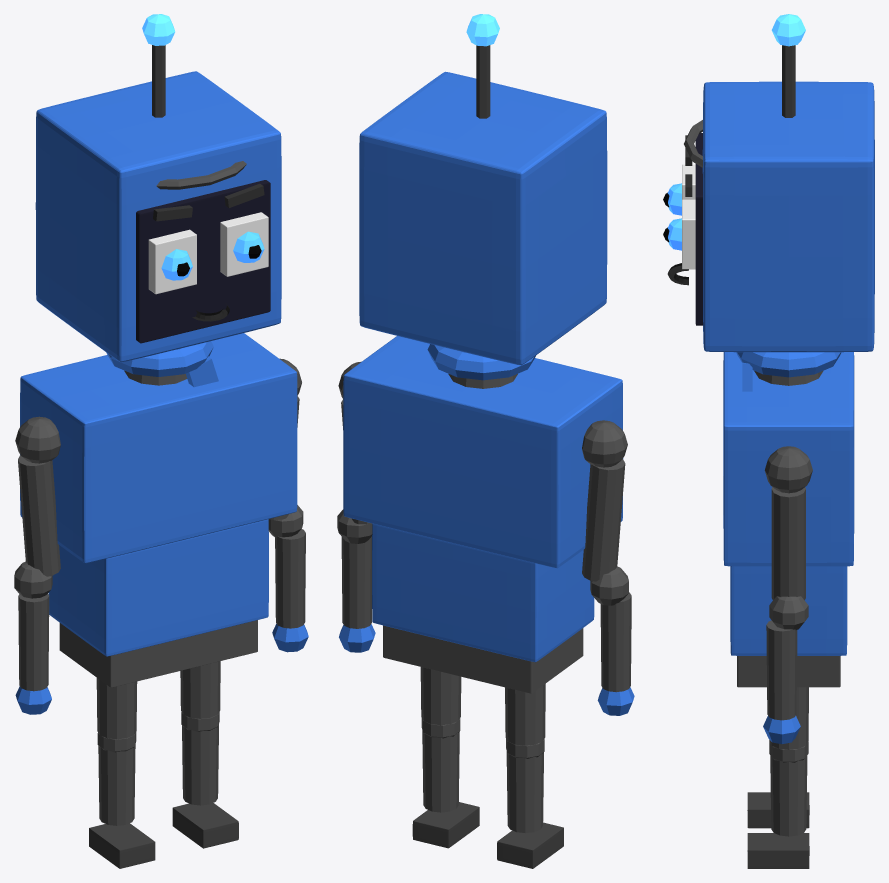
Rendered from percy.glb.
3 views of the same model, side by side, from view 1: azimuth 30°, elevation 25°; view 2: azimuth 150°, elevation 25°; view 3: azimuth 270°, elevation 25° (orthographic).
Parts seen in each view (by area): view 1: percy_chest, percy_head, percy_waist, percy_face_plate, percy_hips, percy_l_upper_arm, percy_l_forearm, percy_r_forearm, percy_l_calf, percy_r_calf, percy_l_foot, percy_r_foot (+16 smaller); view 2: percy_head, percy_chest, percy_waist, percy_hips, percy_l_upper_arm, percy_r_calf, percy_l_calf, percy_l_forearm, percy_r_forearm, percy_l_thigh, percy_r_foot, percy_r_thigh (+9 smaller); view 3: percy_head, percy_chest, percy_waist, percy_r_upper_arm, percy_r_forearm, percy_r_calf, percy_hips, percy_r_foot, percy_scarf_ring, percy_r_shoulder, percy_face_plate, percy_r_elbow (+9 smaller).
Part boxes in pixels (x1=…): percy_chest: x1=20, y1=333, x2=297, y2=563; percy_head: x1=35, y1=71, x2=281, y2=362; percy_waist: x1=48, y1=519, x2=268, y2=656; percy_face_plate: x1=136, y1=180, x2=270, y2=343; percy_hips: x1=59, y1=620, x2=257, y2=687; percy_l_upper_arm: x1=18, y1=455, x2=60, y2=576; percy_l_forearm: x1=18, y1=594, x2=49, y2=691; percy_r_forearm: x1=275, y1=529, x2=305, y2=628; percy_l_calf: x1=98, y1=744, x2=135, y2=825; percy_r_calf: x1=182, y1=725, x2=218, y2=805; percy_l_foot: x1=89, y1=823, x2=155, y2=868; percy_r_foot: x1=172, y1=803, x2=238, y2=848; percy_head: x1=359, y1=71, x2=607, y2=365; percy_chest: x1=343, y1=336, x2=623, y2=568; percy_waist: x1=372, y1=523, x2=594, y2=662; percy_hips: x1=383, y1=625, x2=583, y2=693; percy_l_upper_arm: x1=582, y1=459, x2=625, y2=581; percy_r_calf: x1=422, y1=731, x2=459, y2=812; percy_l_calf: x1=506, y1=751, x2=543, y2=833; percy_l_forearm: x1=600, y1=592, x2=631, y2=692; percy_r_forearm: x1=341, y1=536, x2=371, y2=628; percy_l_thigh: x1=505, y1=683, x2=545, y2=745; percy_r_foot: x1=412, y1=802, x2=479, y2=848; percy_r_thigh: x1=420, y1=667, x2=461, y2=725; percy_head: x1=702, y1=81, x2=874, y2=352; percy_chest: x1=723, y1=352, x2=854, y2=566; percy_waist: x1=730, y1=566, x2=847, y2=655; percy_r_upper_arm: x1=771, y1=487, x2=805, y2=600; percy_r_forearm: x1=766, y1=620, x2=797, y2=720; percy_r_calf: x1=770, y1=755, x2=807, y2=836; percy_hips: x1=737, y1=656, x2=840, y2=687; percy_r_foot: x1=747, y1=833, x2=809, y2=868; percy_scarf_ring: x1=736, y1=352, x2=841, y2=377; percy_r_shoulder: x1=764, y1=446, x2=812, y2=493; percy_face_plate: x1=695, y1=133, x2=703, y2=325; percy_r_elbow: x1=769, y1=596, x2=808, y2=629.
Bounding box in the file's own units: 0.97 × 2.64 × 0.6148.
